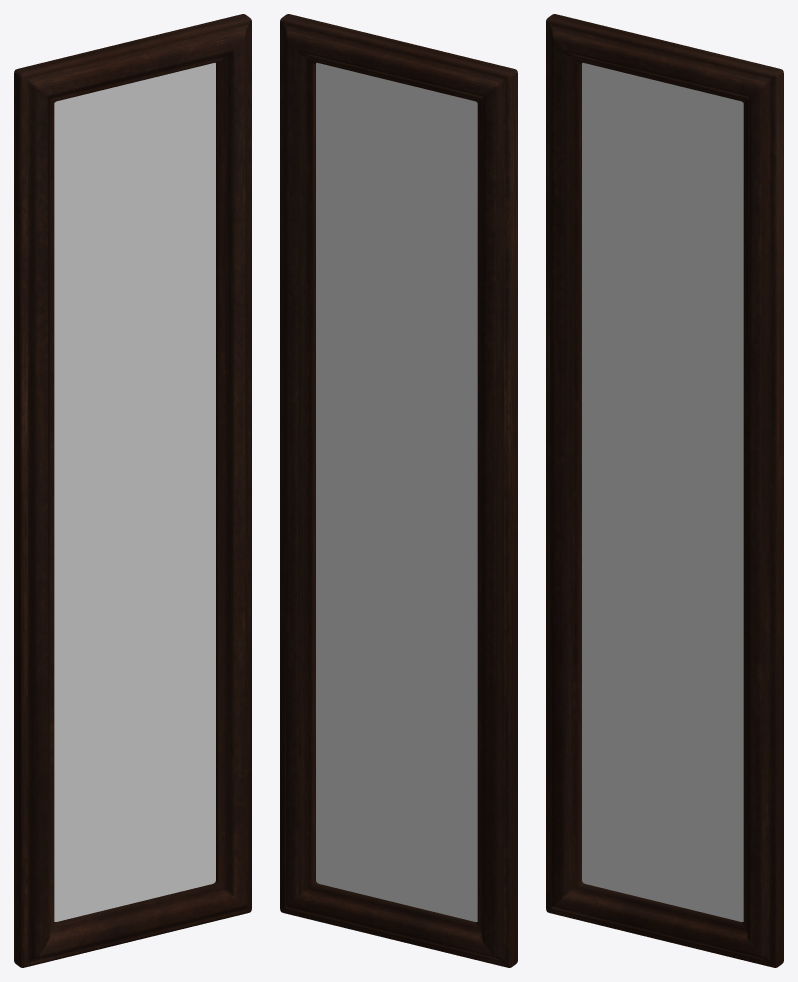
Rendered from SK7 DOOR B.fbx.
3 views of the same model, side by side, from view 1: azimuth 30°, elevation 25°; view 2: azimuth 150°, elevation 25°; view 3: azimuth 330°, elevation 25° (orthographic).
Visible parts, largest first — view 1: SK7 DOOR B; view 2: SK7 DOOR B; view 3: SK7 DOOR B.
Part boxes in pixels (bbox=[...]): SK7 DOOR B: bbox=[14, 14, 251, 967]; SK7 DOOR B: bbox=[280, 14, 517, 967]; SK7 DOOR B: bbox=[546, 14, 783, 967].
Bounding box in the file's own units: 62.66 × 231 × 7.9.
